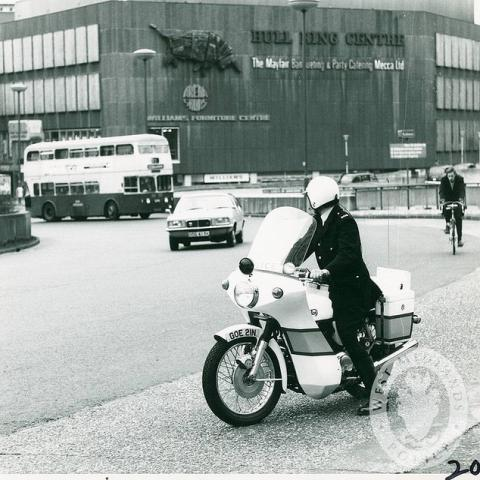bus: (16, 135, 178, 221)
car: (166, 190, 246, 248), (338, 174, 379, 184), (425, 167, 446, 182), (456, 163, 477, 172)
motorcycle: (200, 206, 422, 424)
